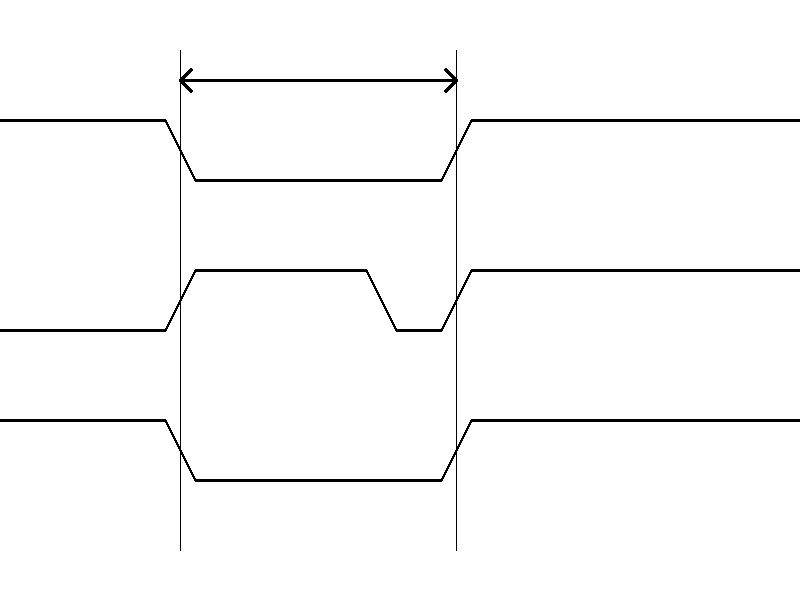double_arrow: (180, 65, 456, 95)
